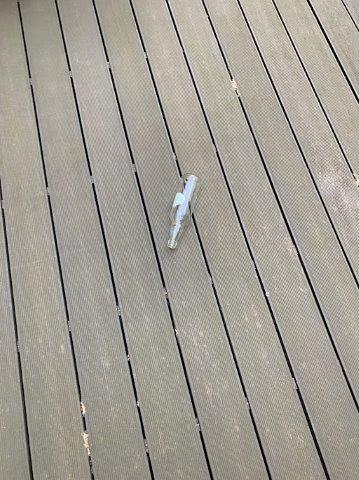botolkaca: (165, 170, 201, 250)
